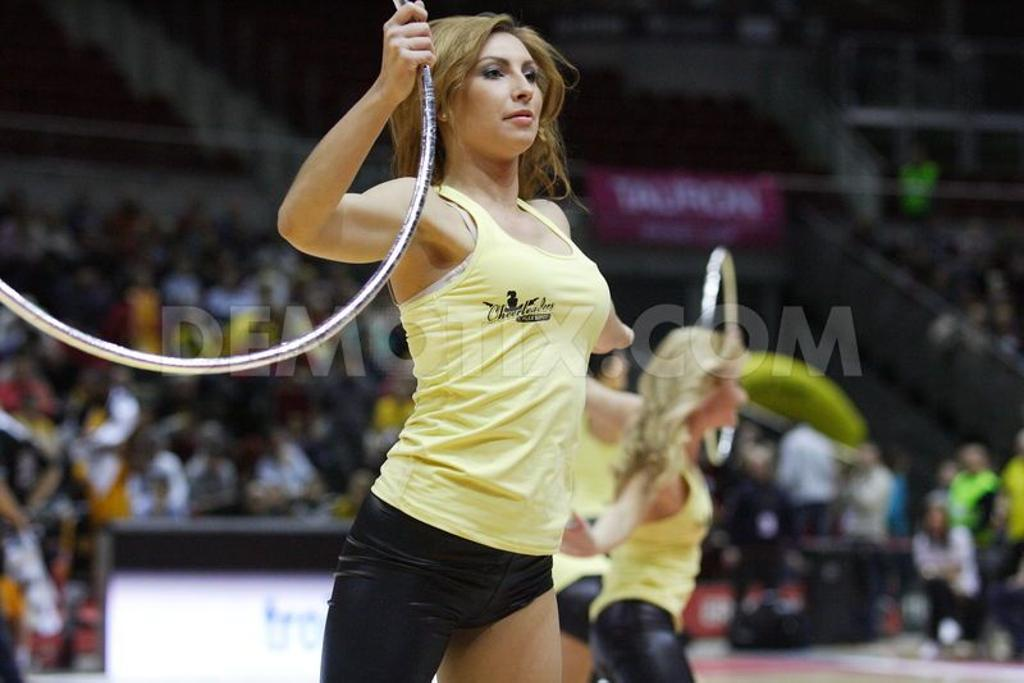face: (453, 21, 545, 147)
